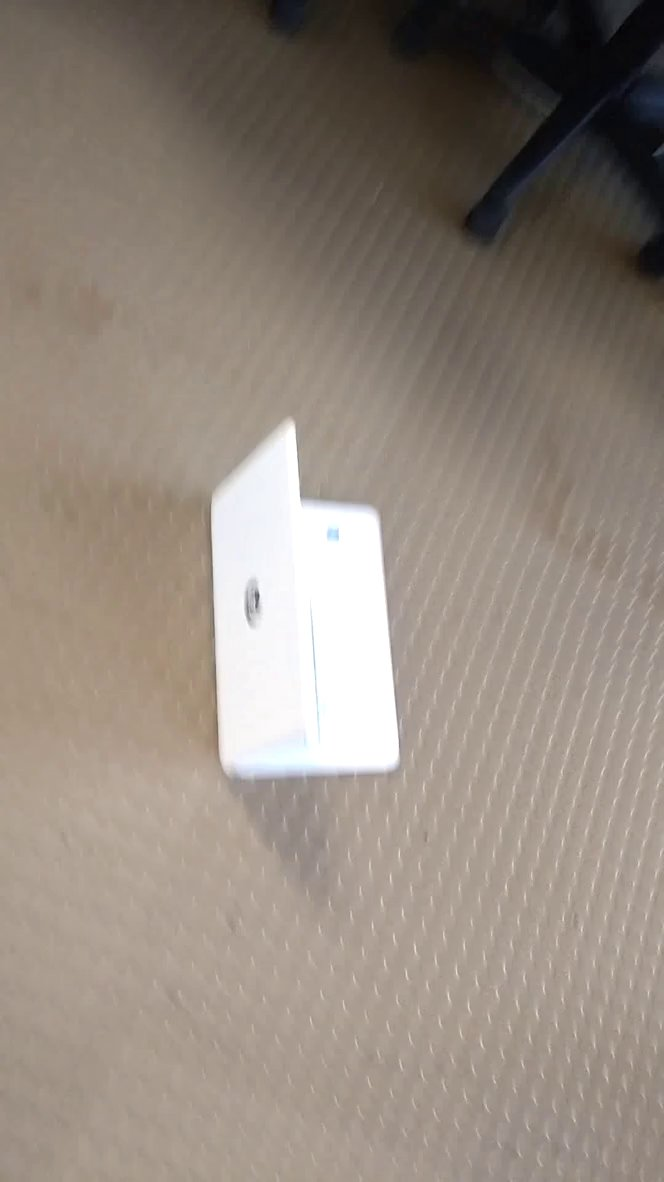laptop: (202, 413, 407, 795)
